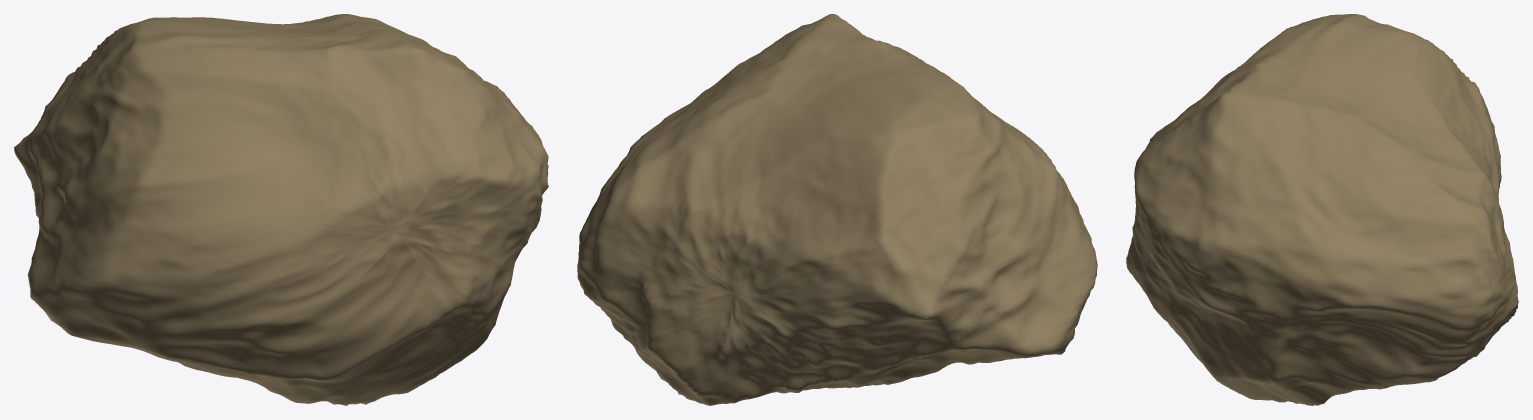
Rendered from rock2.fbx.
3 renders of one model, left to right at view 1: azimuth 30°, elevation 25°; view 2: azimuth 150°, elevation 25°; view 3: azimuth 270°, elevation 25°, orthographic. The views are drawn at different scales.
Parts seen in each view (by area): view 1: Landscape; view 2: Landscape; view 3: Landscape.
Part boxes in pixels (x1=…): Landscape: x1=14, y1=14, x2=548, y2=405; Landscape: x1=577, y1=14, x2=1097, y2=405; Landscape: x1=1126, y1=14, x2=1518, y2=405.
Size of the model in its own units: 318 by 234 by 270.
